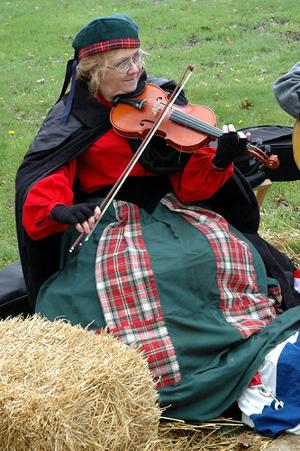person: (16, 20, 300, 439)
